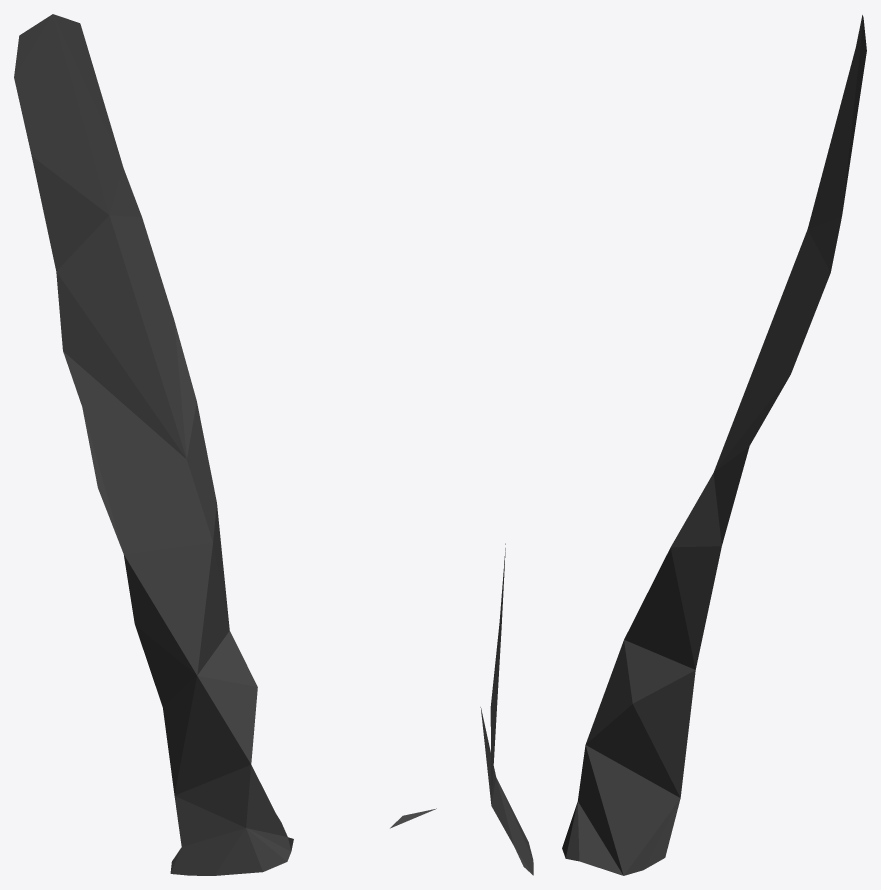
File: A_iliac_deep_circumflex_L_A_iliac_deep_circumflex_L.glb
3 views of the same model, side by side, from view 1: azimuth 30°, elevation 25°; view 2: azimuth 150°, elevation 25°; view 3: azimuth 270°, elevation 25° (orthographic). The views are drawn at different scales.
Parts seen in each view (by area): view 1: A_iliac_deep_circumflex_L_A_iliac_deep_circumflex_L; view 2: A_iliac_deep_circumflex_L_A_iliac_deep_circumflex_L; view 3: A_iliac_deep_circumflex_L_A_iliac_deep_circumflex_L.
Part boxes in pixels (left/top/right/bottom): A_iliac_deep_circumflex_L_A_iliac_deep_circumflex_L: left=14, top=14, right=293, bottom=875; A_iliac_deep_circumflex_L_A_iliac_deep_circumflex_L: left=390, top=543, right=533, bottom=875; A_iliac_deep_circumflex_L_A_iliac_deep_circumflex_L: left=562, top=15, right=866, bottom=875.
Bounding box in the file's own units: 0.00294 × 0.0132 × 0.00452.
Materials: 1 (1 with a texture image).
